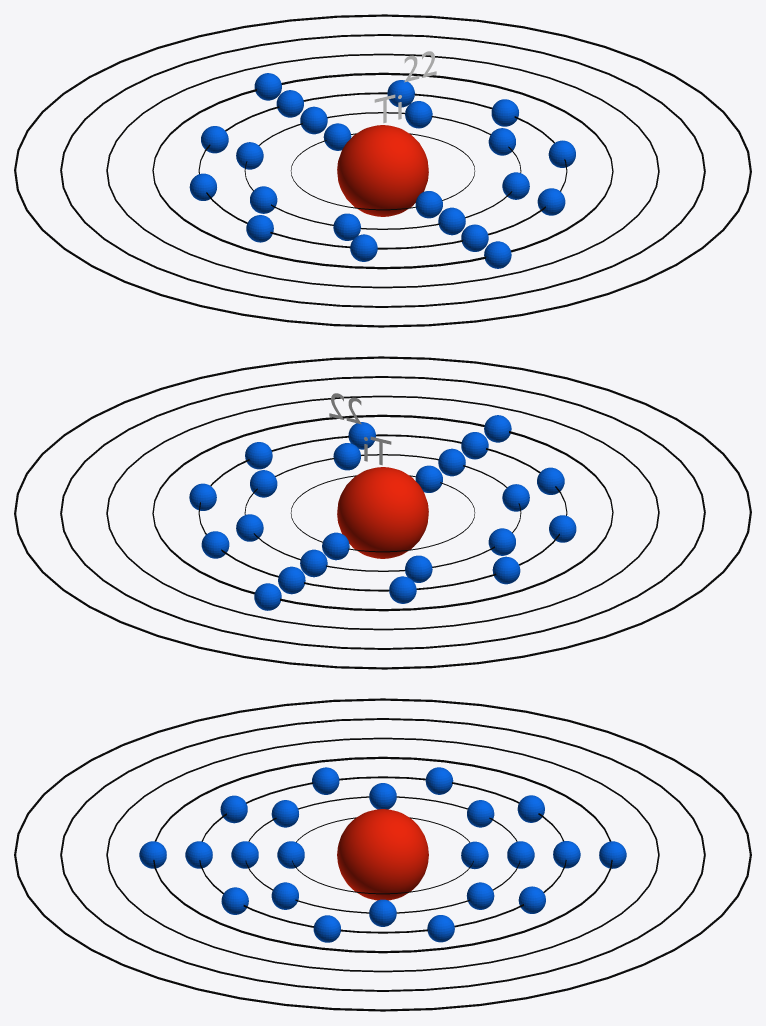
3 views of the same model, one above another, from view 1: azimuth 30°, elevation 25°; view 2: azimuth 150°, elevation 25°; view 3: azimuth 270°, elevation 25° (orthographic).
Parts seen in each view (by area): view 1: Proton, Ti3, Ti2, n7, n6, n5, n4, n3, Ti4, Ti1, n2; view 2: Proton, Ti3, Ti2, n7, n6, n5, n4, n3, Ti4, Ti1, n2; view 3: Proton, Ti3, Ti2, n7, n6, n5, n4, n3, Ti1, Ti4, n2, n1.
Part boxes in pixels (bbox=[...]): Proton: bbox=[337, 125, 428, 216]; Ti3: bbox=[189, 80, 575, 261]; Ti2: bbox=[236, 101, 529, 240]; n7: bbox=[14, 14, 751, 327]; n6: bbox=[60, 34, 705, 307]; n5: bbox=[106, 53, 659, 288]; n4: bbox=[152, 72, 613, 269]; n3: bbox=[198, 92, 567, 249]; Ti4: bbox=[254, 73, 511, 268]; Ti1: bbox=[323, 123, 442, 218]; n2: bbox=[244, 112, 521, 229]; Proton: bbox=[337, 467, 428, 558]; Ti3: bbox=[189, 422, 576, 603]; Ti2: bbox=[236, 443, 529, 582]; n7: bbox=[14, 356, 751, 669]; n6: bbox=[60, 376, 705, 649]; n5: bbox=[106, 395, 659, 630]; n4: bbox=[152, 414, 613, 611]; n3: bbox=[198, 434, 567, 591]; Ti4: bbox=[254, 415, 511, 610]; Ti1: bbox=[322, 465, 442, 560]; n2: bbox=[244, 454, 521, 571]; Proton: bbox=[337, 809, 428, 900]; Ti3: bbox=[185, 767, 580, 942]; Ti2: bbox=[231, 783, 534, 926]; n7: bbox=[14, 698, 751, 1011]; n6: bbox=[60, 718, 705, 991]; n5: bbox=[106, 737, 659, 972]; n4: bbox=[153, 756, 612, 953]; n3: bbox=[199, 776, 566, 933]; Ti1: bbox=[277, 841, 488, 869]; Ti4: bbox=[139, 841, 626, 868]; n2: bbox=[245, 796, 520, 913]; n1: bbox=[292, 817, 473, 894].
Size of the model in its own units: 802 by 180 by 802.
